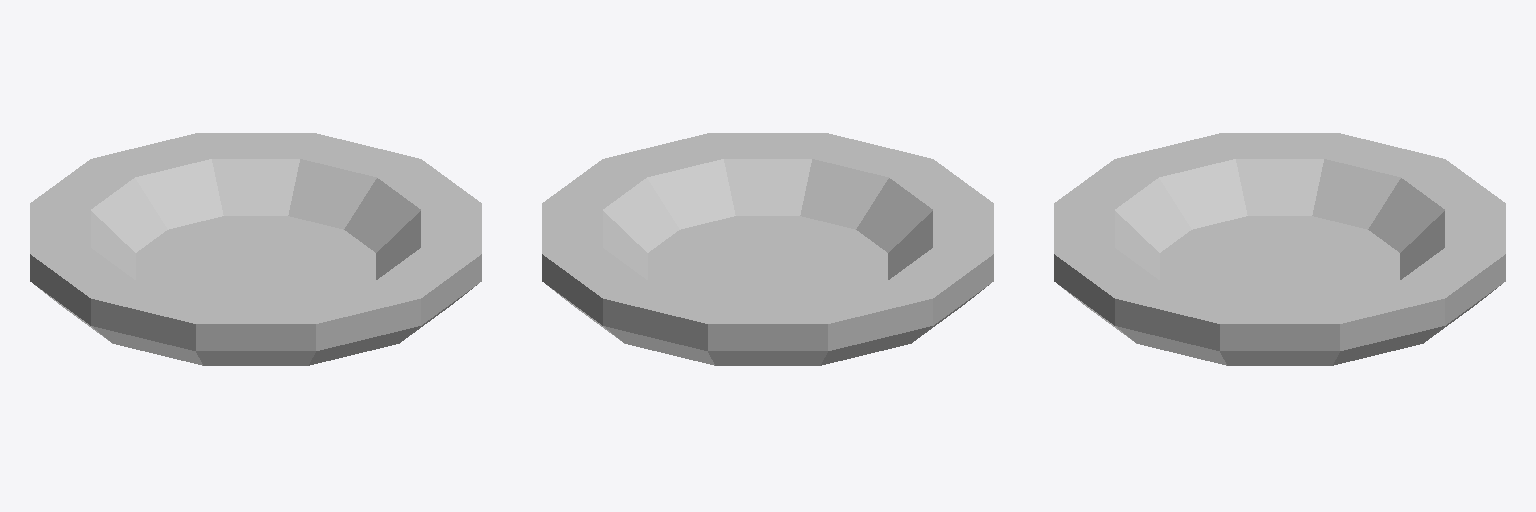
The model's file is plate_small_white.obj.
3 renders of one model, left to right at view 1: azimuth 30°, elevation 25°; view 2: azimuth 150°, elevation 25°; view 3: azimuth 270°, elevation 25°, orthographic.
Visible parts, largest first — view 1: plate_small_white; view 2: plate_small_white; view 3: plate_small_white.
Boxes of the visible parts, <box> form: plate_small_white: <box>30,133,481,365</box>; plate_small_white: <box>542,133,993,365</box>; plate_small_white: <box>1054,133,1505,365</box>.
Bounding box in the file's own units: 0.75 × 0.1 × 0.75.